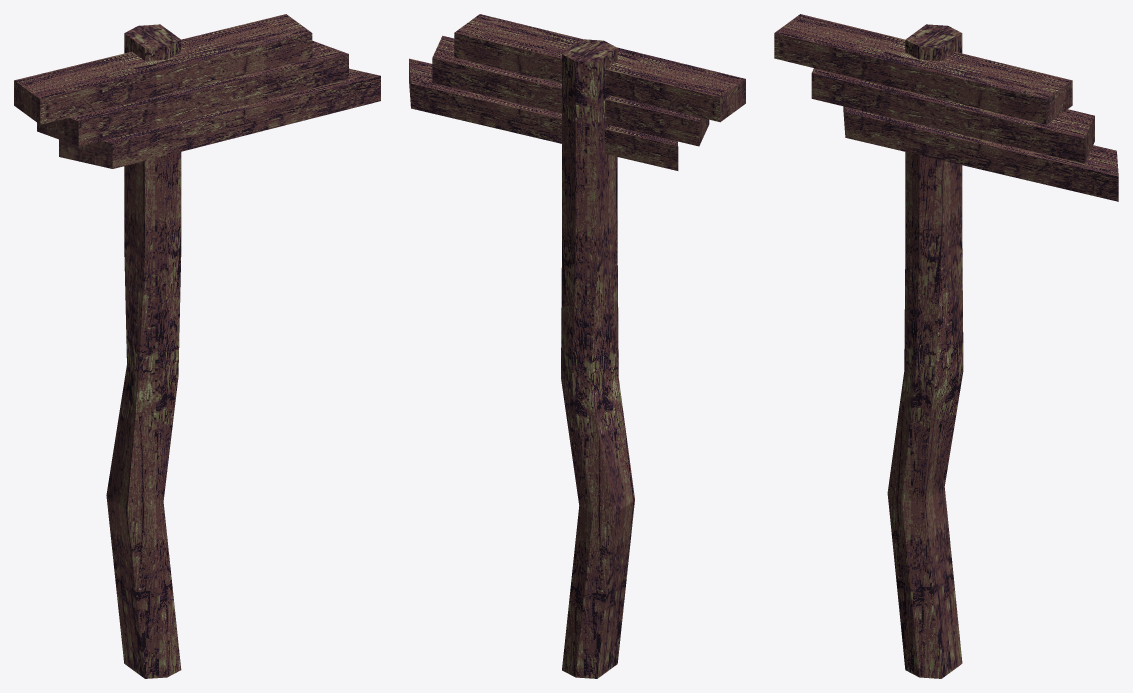
File: PlacaNumero2.fbx
The picture shows the model from 3 angles, left to right: view 1: azimuth 30°, elevation 25°; view 2: azimuth 150°, elevation 25°; view 3: azimuth 330°, elevation 25°; orthographic projection. The views are drawn at different scales.
Visible parts, largest first — view 1: Cube.002, Cube; view 2: Cube, Cube.002; view 3: Cube.002, Cube.
Boxes of the visible parts, x1,y1,x2,y2 form: Cube.002: [14, 14, 380, 168]; Cube: [106, 24, 181, 678]; Cube: [561, 39, 634, 678]; Cube.002: [409, 14, 745, 170]; Cube.002: [774, 14, 1118, 201]; Cube: [887, 24, 963, 678].
Bounding box in the file's own units: 88.11 × 155 × 17.27.
1 material, 1 textured.
